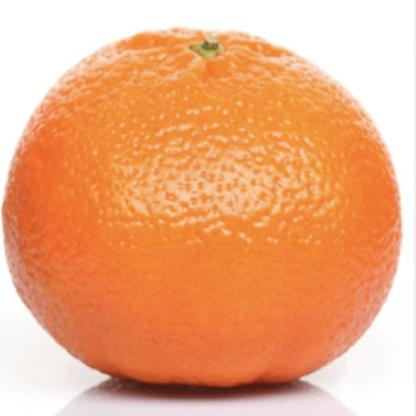fresh: (2, 32, 401, 397)
